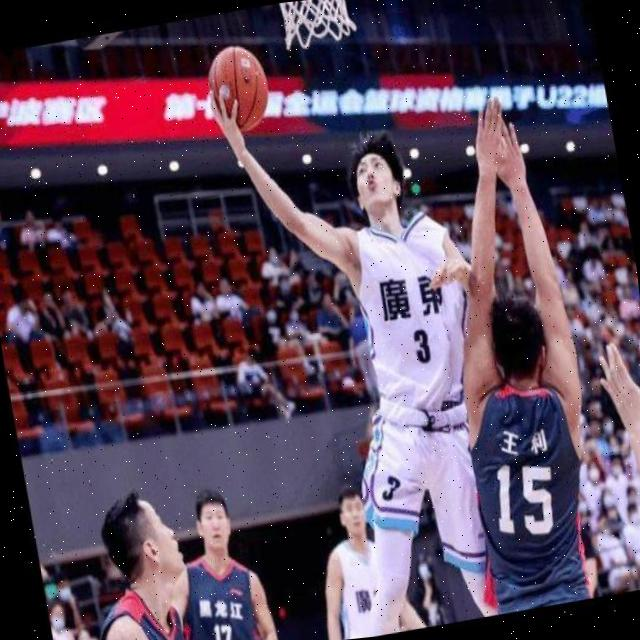ball: (210, 41, 275, 130)
